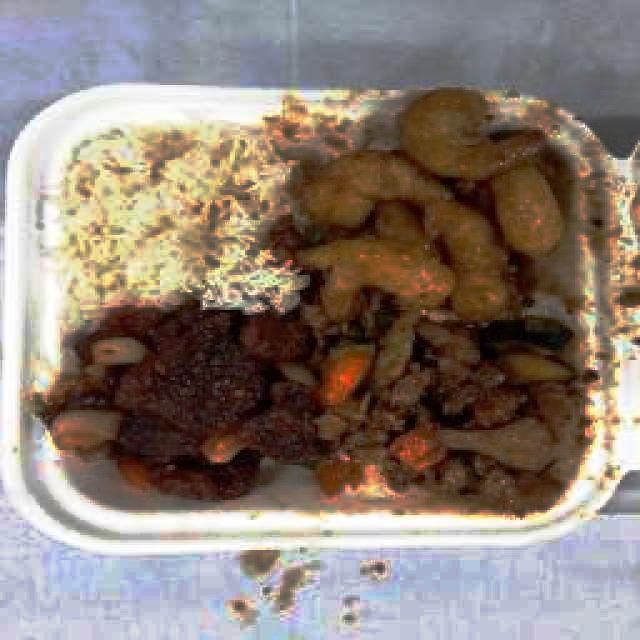Beijing Beef: (51, 316, 610, 516)
Fried Rice: (76, 139, 262, 302)
